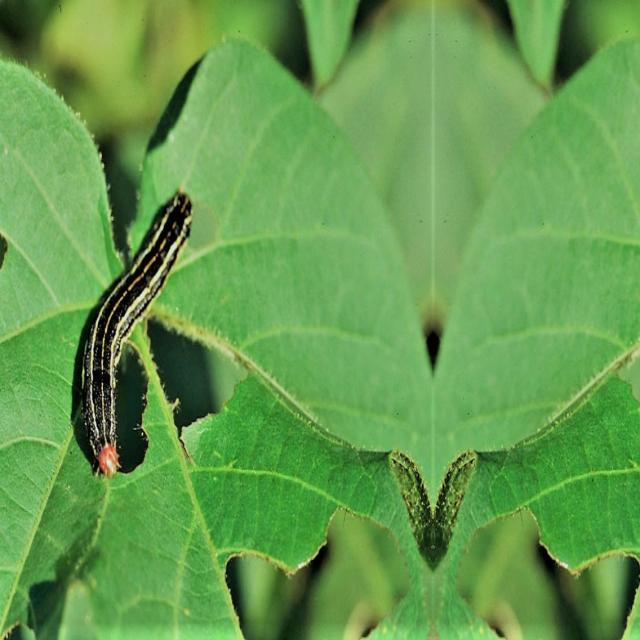Armyworm: (53, 128, 192, 524)
Armyworm_damage: (151, 302, 256, 447)
